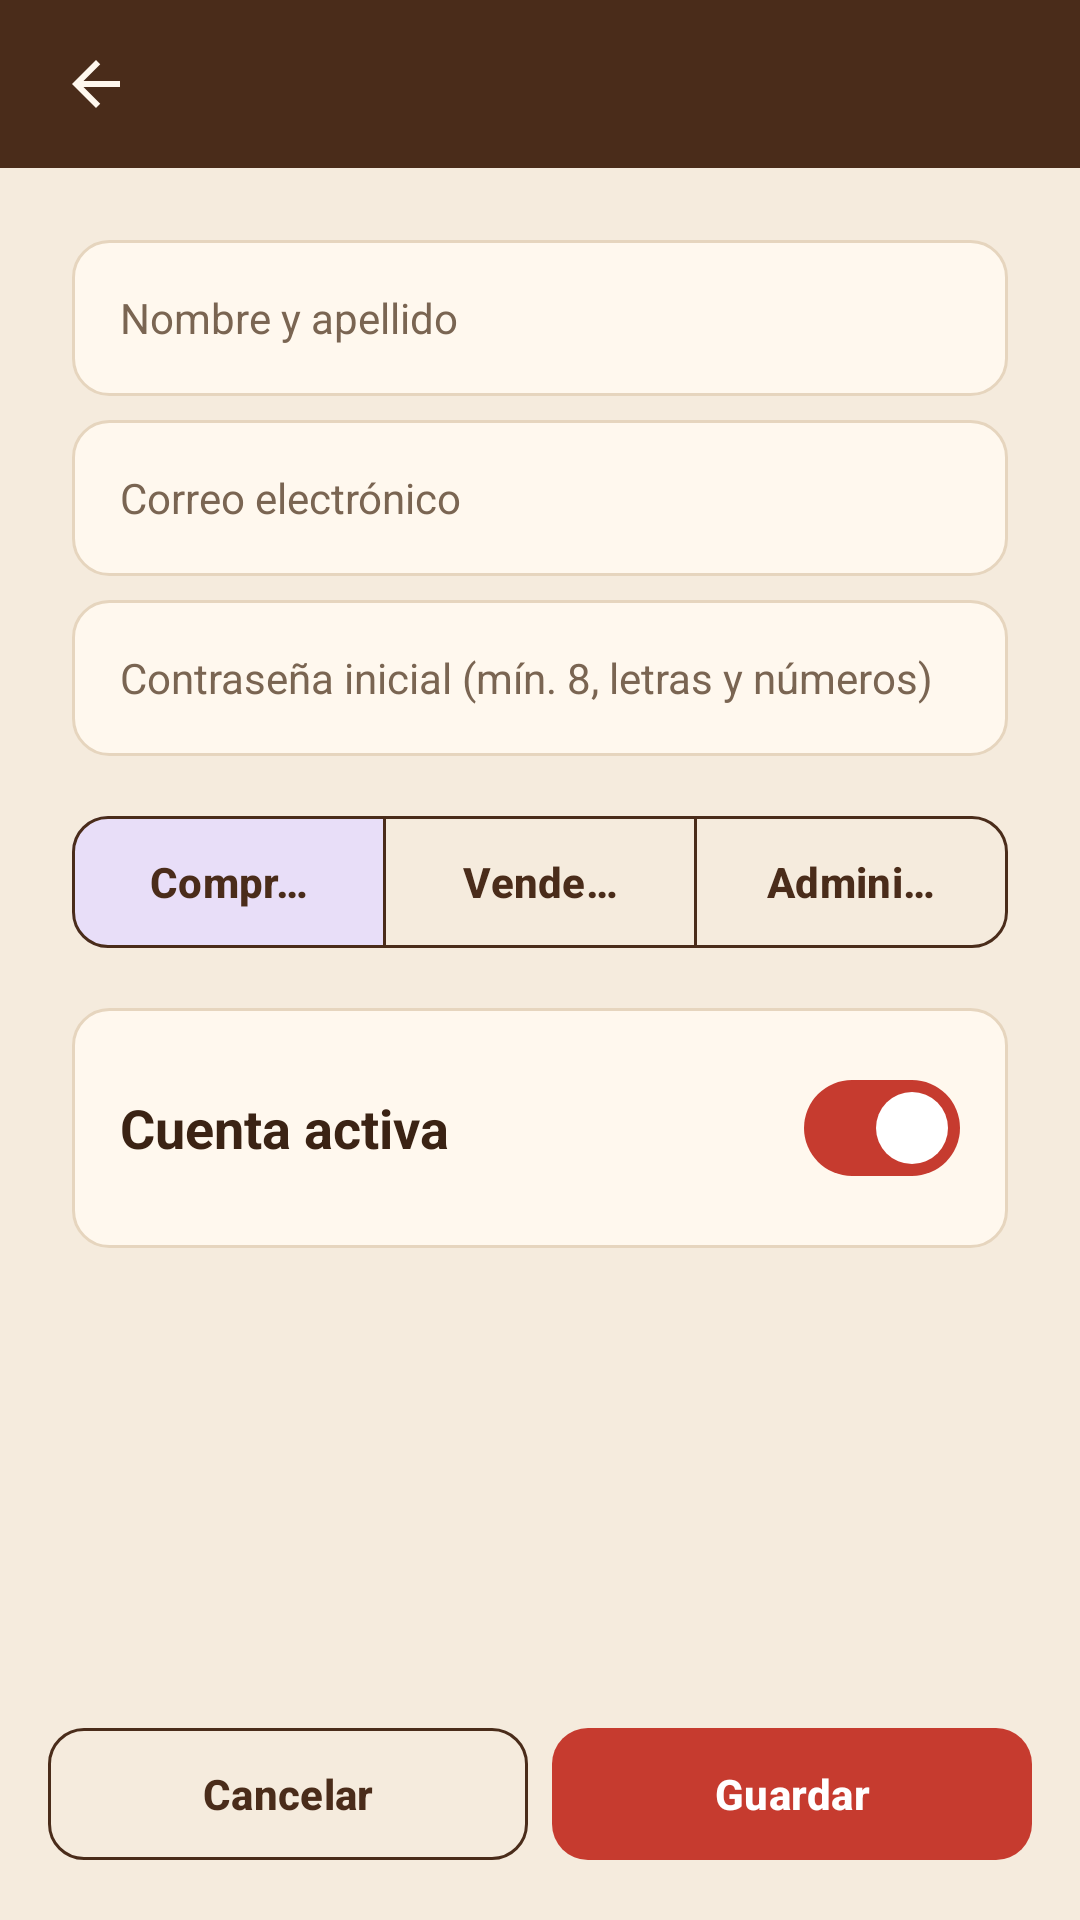

Point at icon controls on the screen. Image size 1080×1920, points as (x=x, y=y).
Volver: (x=96, y=84)
